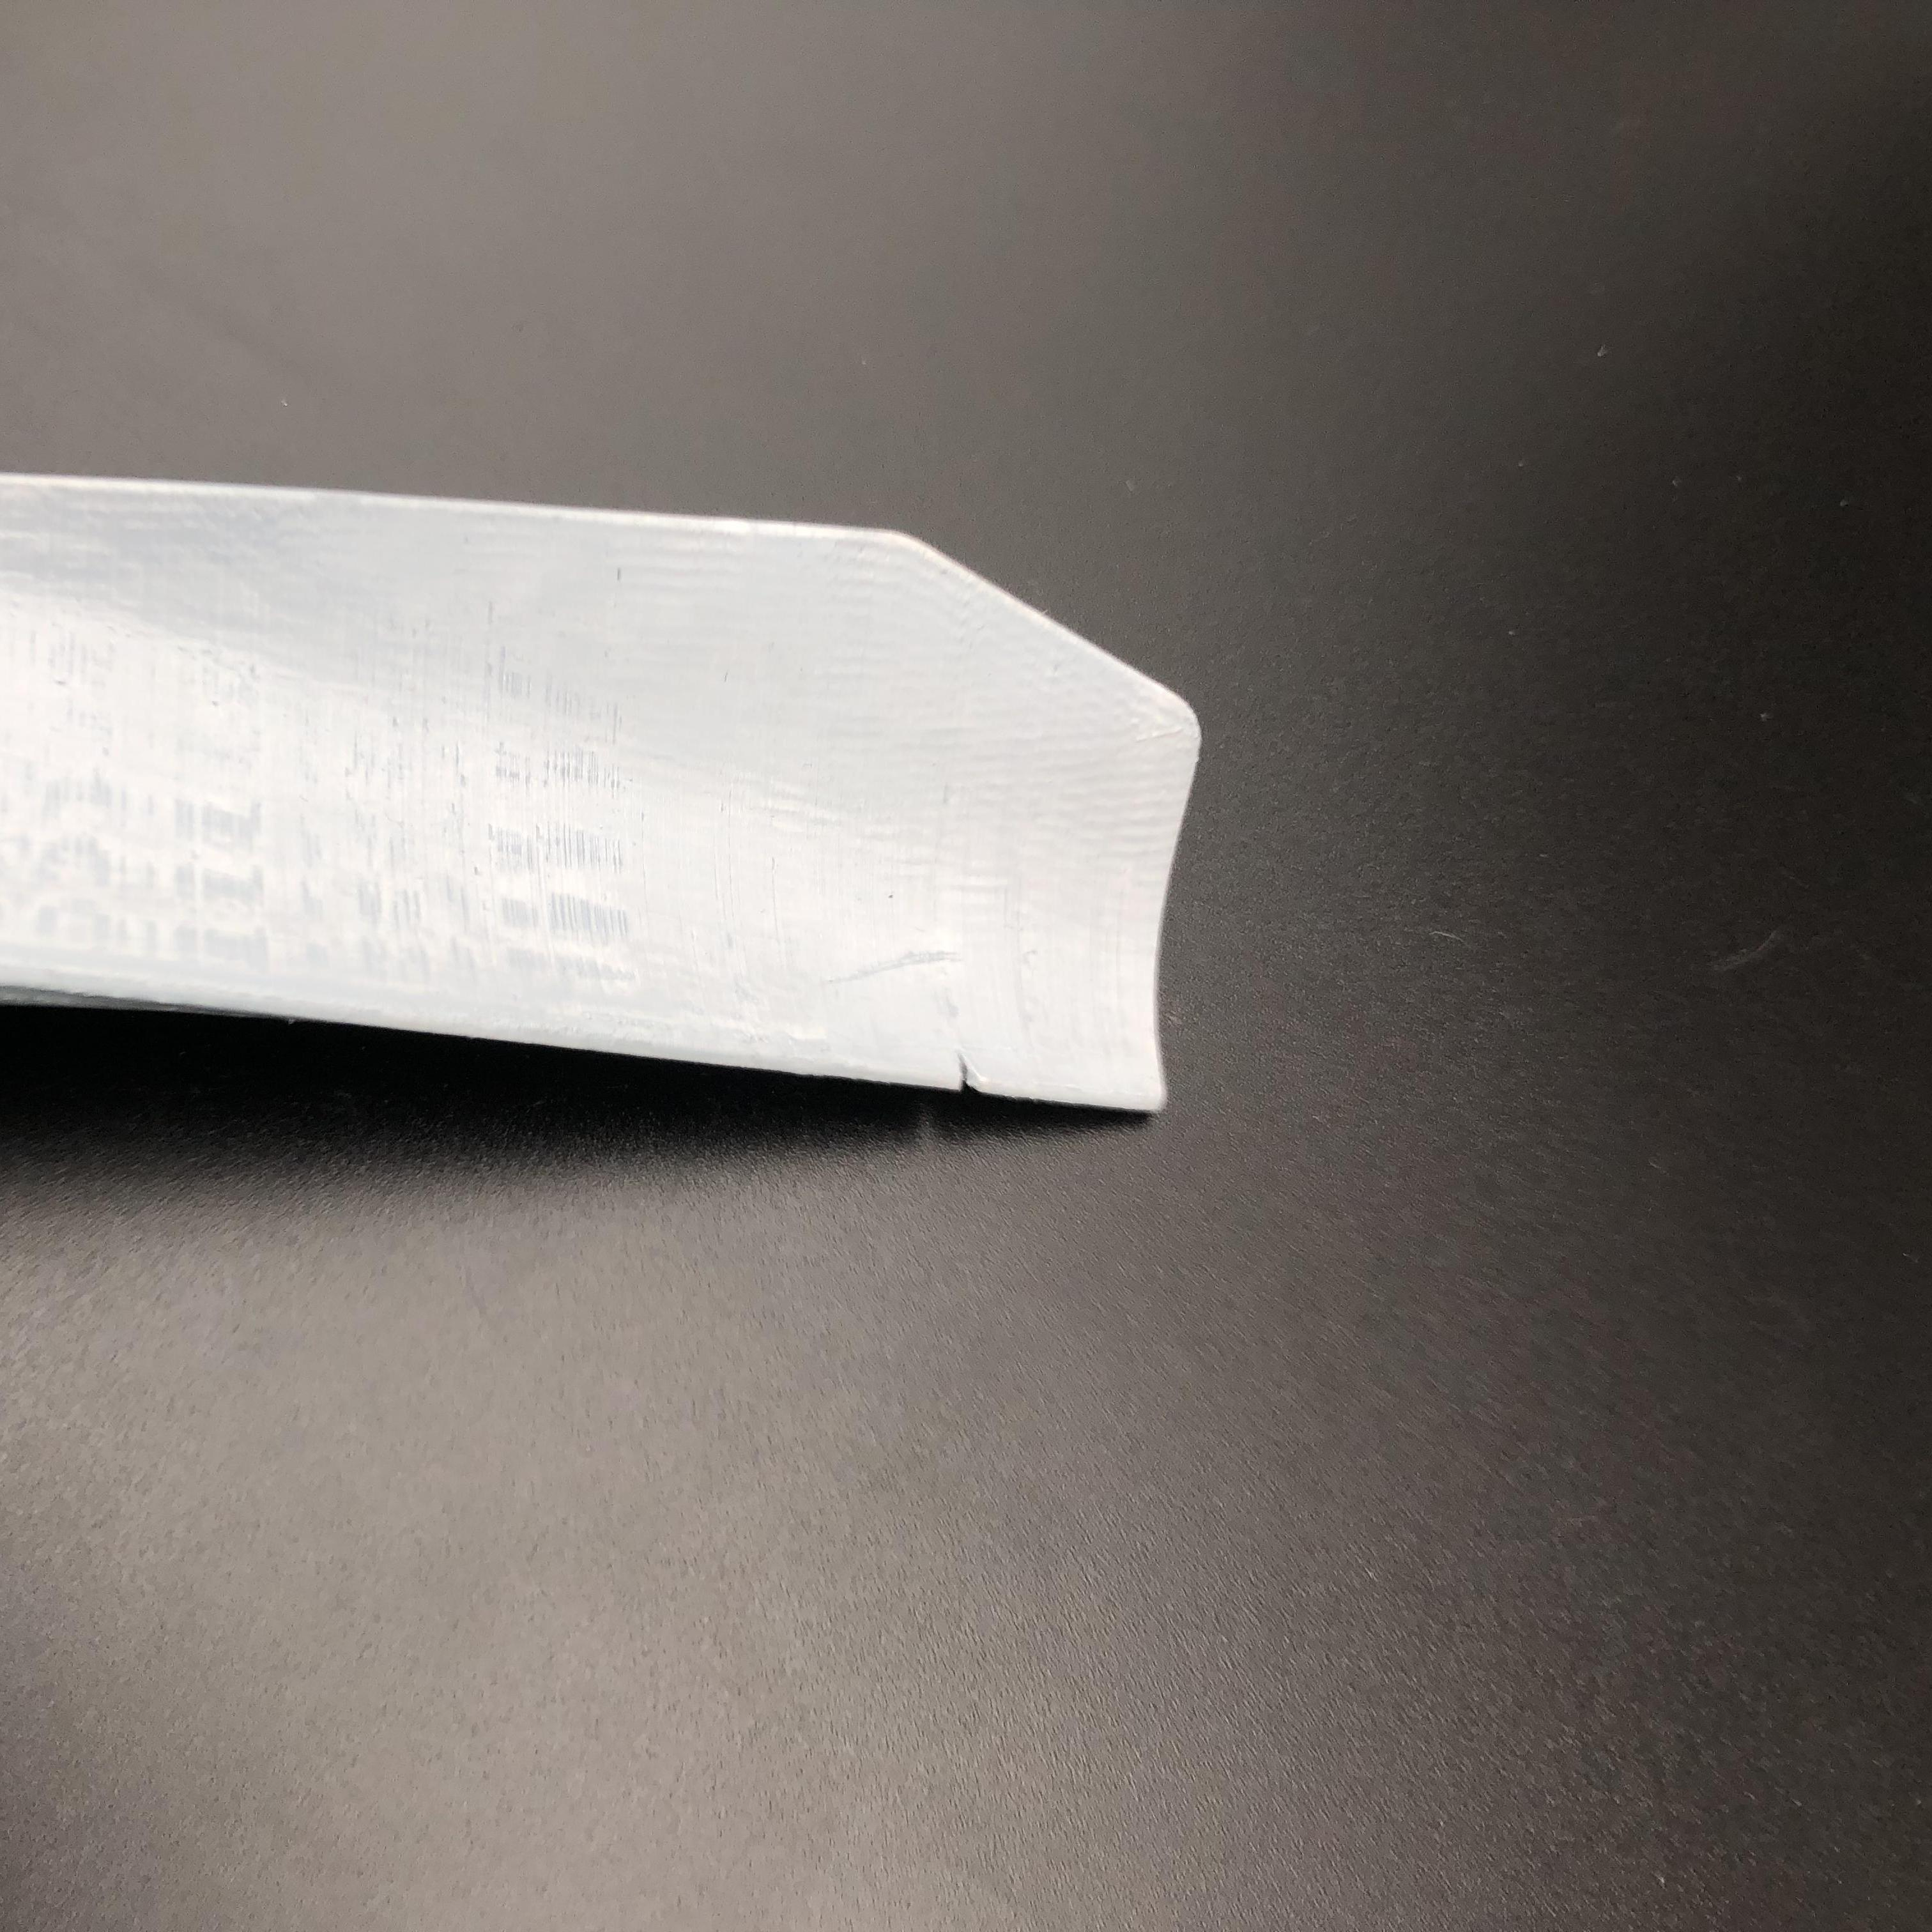groove: (945, 1056, 996, 1095)
